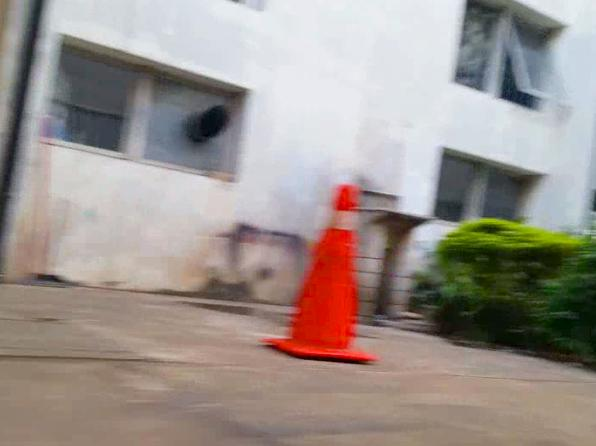0 cone: (258, 184, 378, 361)
